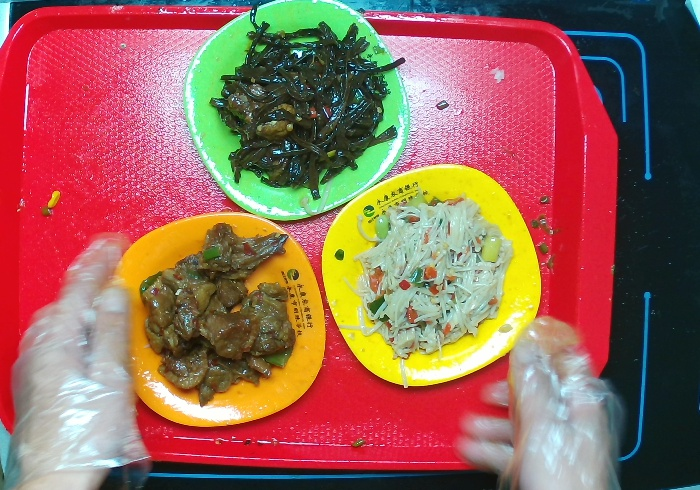YKMZ-Huang_Se_Fang_Die: (320, 159, 546, 390)
YKMZ-Ju_Se_Fang_Die: (113, 209, 333, 434)
YKMZ-Lv_Se_Fang_Die: (180, 1, 417, 224)
